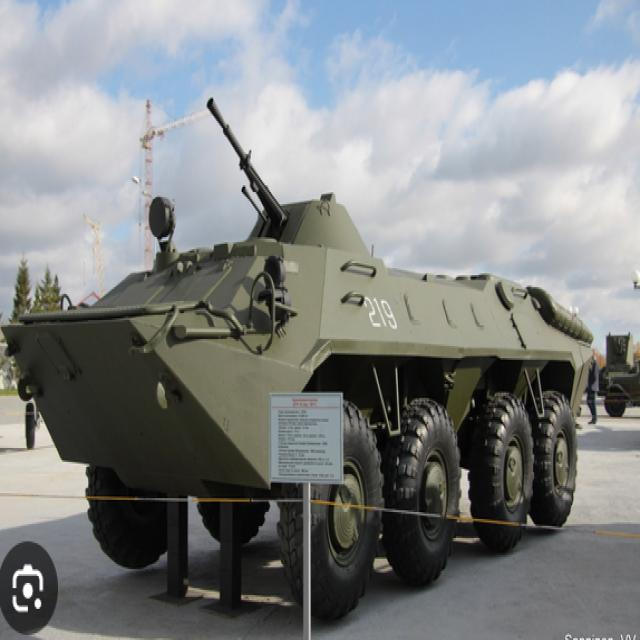MIL_APC: (5, 165, 595, 607)
